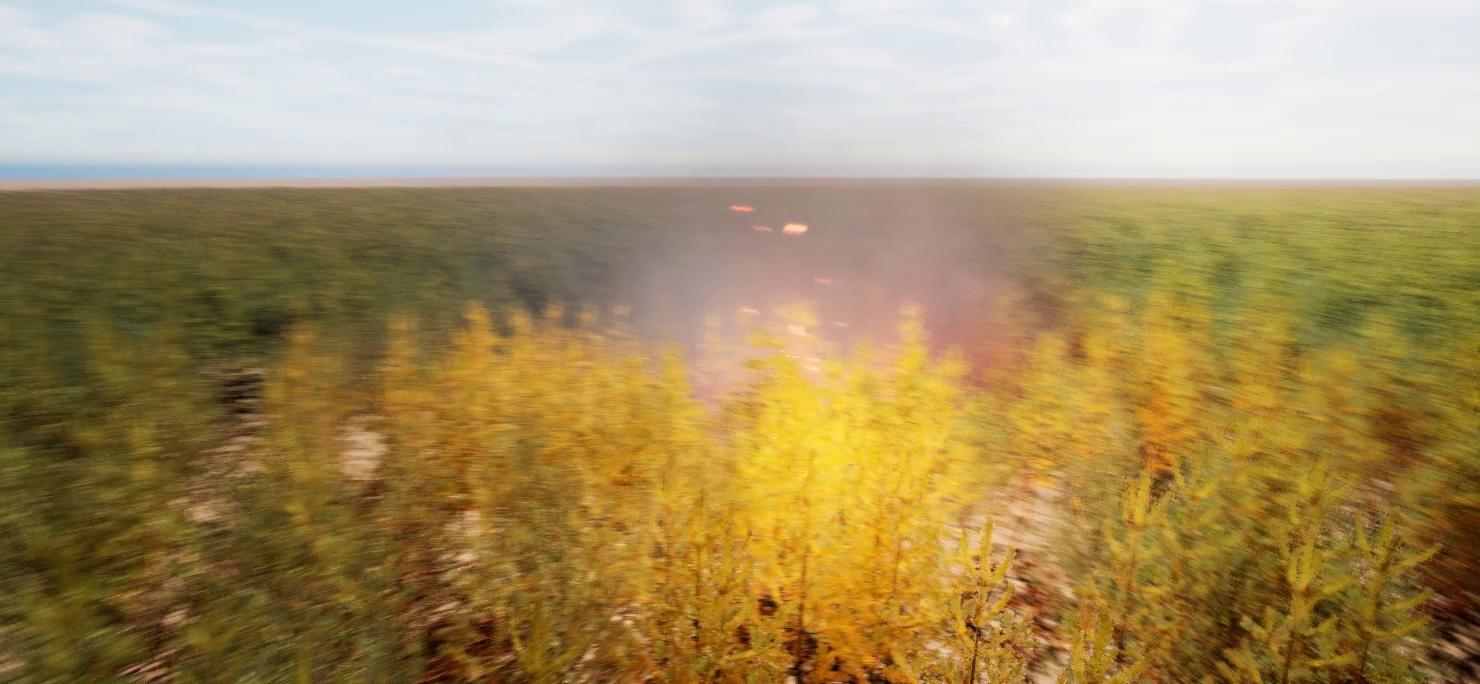fire: (545, 333, 998, 548)
smoke: (606, 142, 1036, 413)
